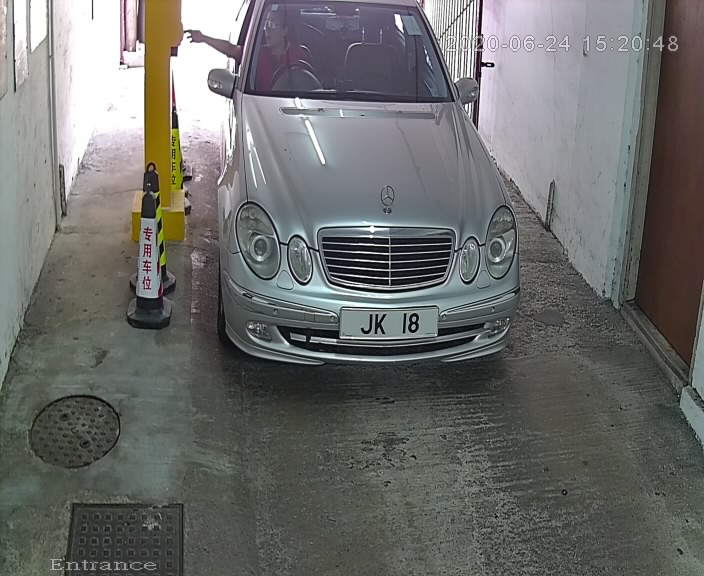Car: (193, 1, 540, 397)
License Plate: (336, 303, 446, 348)
